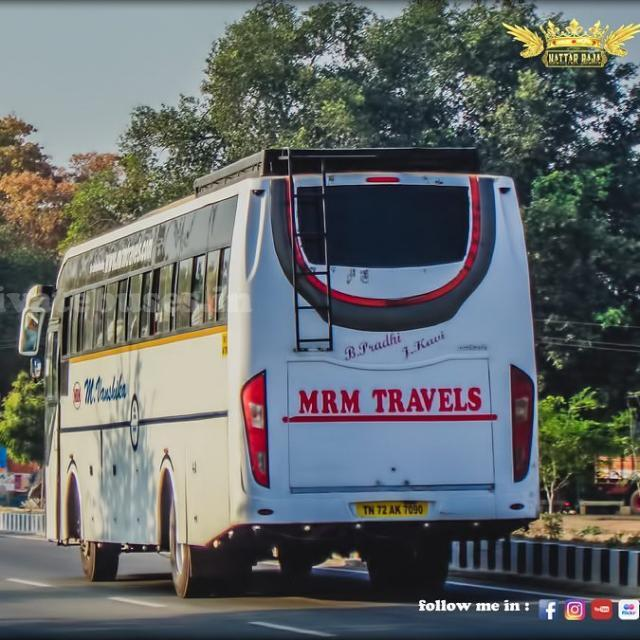Bus: (18, 143, 545, 604)
